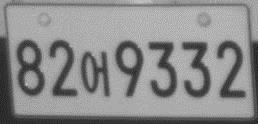2: (48, 39, 78, 97), (216, 40, 246, 97)
3: (148, 41, 177, 98), (182, 41, 210, 97)
8: (14, 39, 45, 96)
9: (114, 40, 143, 98)
어: (80, 50, 112, 98)
